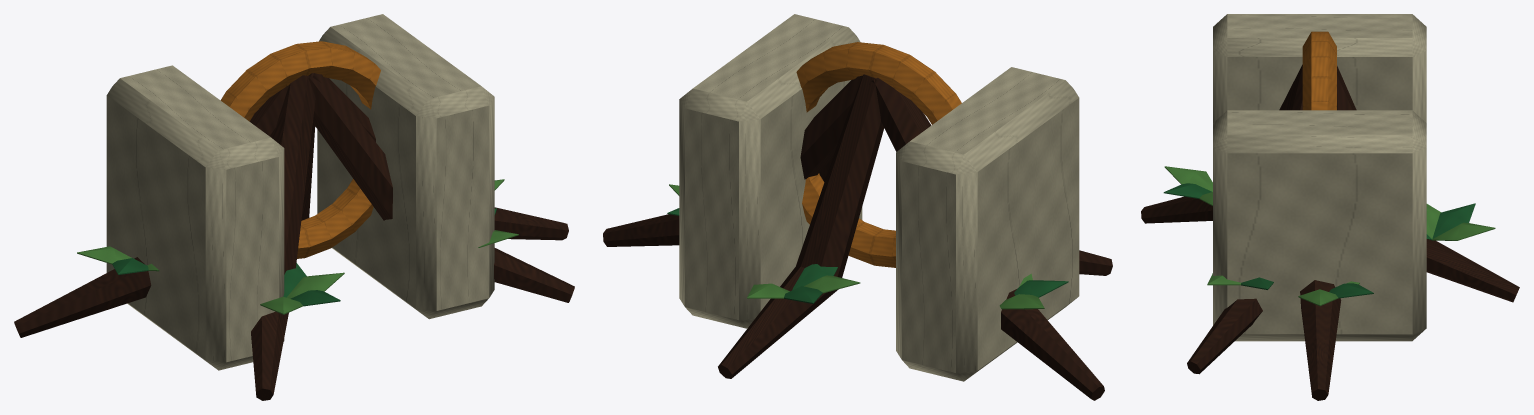
Rendered from Raizes_na_maquina_LOD0.fbx.
3 renders of one model, left to right at view 1: azimuth 30°, elevation 25°; view 2: azimuth 150°, elevation 25°; view 3: azimuth 270°, elevation 25°, orthographic. The views are drawn at different scales.
Parts seen in each view (by area): view 1: Raizes_na_maquina_LOD0; view 2: Raizes_na_maquina_LOD0; view 3: Raizes_na_maquina_LOD0.
Boxes of the visible parts, left/top/right/bottom form: Raizes_na_maquina_LOD0: left=14, top=14, right=574, bottom=400; Raizes_na_maquina_LOD0: left=603, top=14, right=1112, bottom=400; Raizes_na_maquina_LOD0: left=1141, top=14, right=1519, bottom=400.
Size of the model in its own units: 393 by 186 by 266.
Materials: 1 (1 with a texture image).
